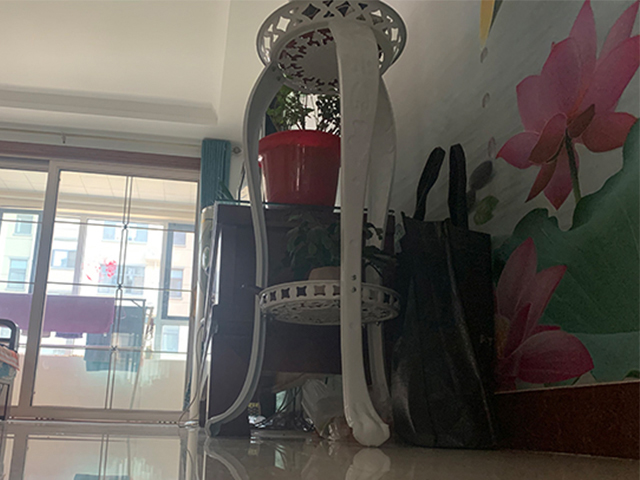cabinet: (194, 201, 397, 434)
wire: (174, 319, 202, 429)
